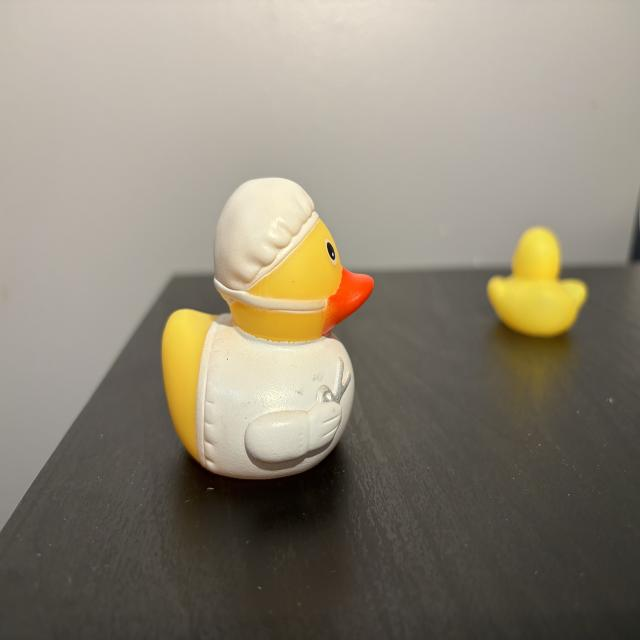duck_regular: (487, 230, 588, 334)
duck_specialty: (162, 177, 375, 482)
